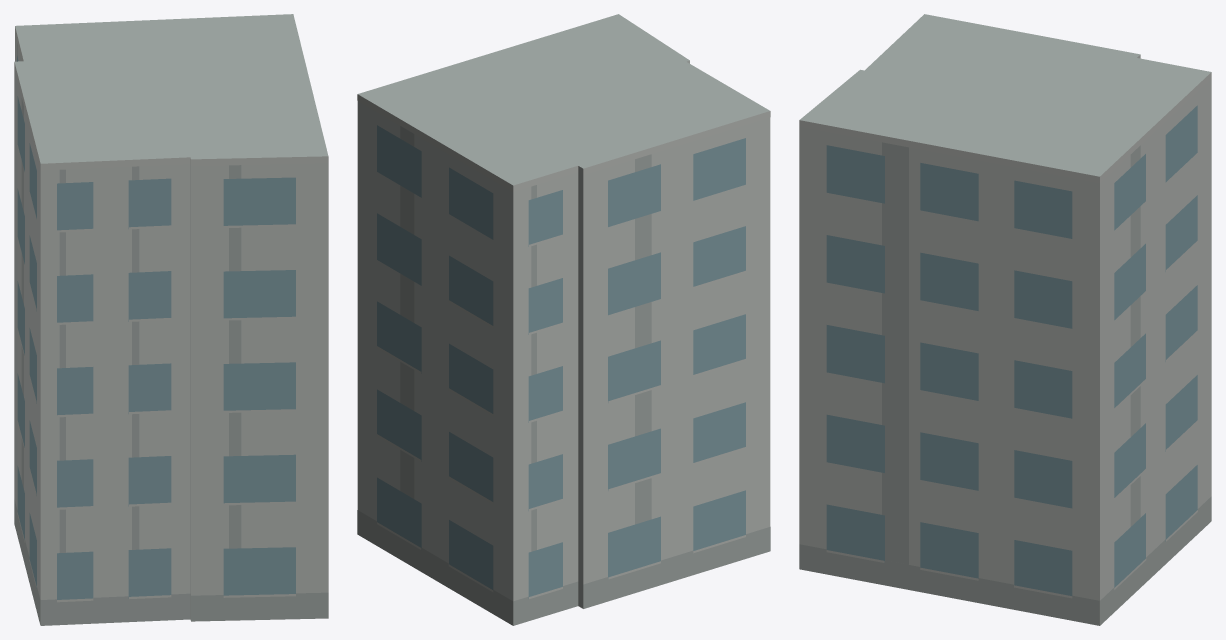
The model's file is survey-upis-32563560.glb.
3 views of the same model, side by side, from view 1: azimuth 30°, elevation 25°; view 2: azimuth 150°, elevation 25°; view 3: azimuth 270°, elevation 25° (orthographic). The views are drawn at different scales.
Visible parts, largest first — view 1: survey-upis-32563560.tmp; view 2: survey-upis-32563560.tmp; view 3: survey-upis-32563560.tmp.
Part boxes in pixels (<box>): survey-upis-32563560.tmp: <box>14,14,328,625</box>; survey-upis-32563560.tmp: <box>357,14,770,625</box>; survey-upis-32563560.tmp: <box>799,14,1211,625</box>.
Size of the model in its own units: 12.75 by 16.4 by 13.65.
